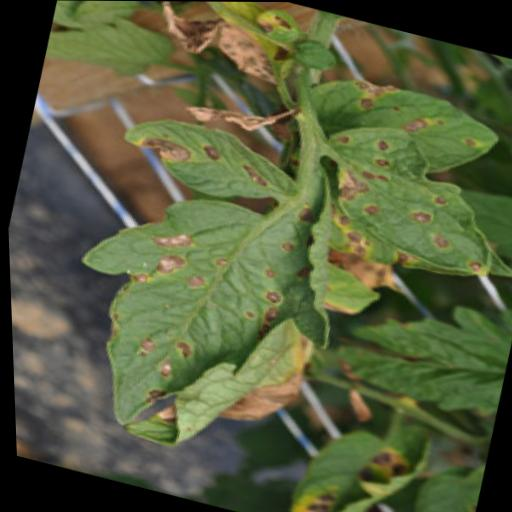Early Blight: (37, 168, 356, 479), (302, 112, 512, 289), (299, 67, 506, 190), (108, 102, 319, 220), (282, 412, 433, 512)
